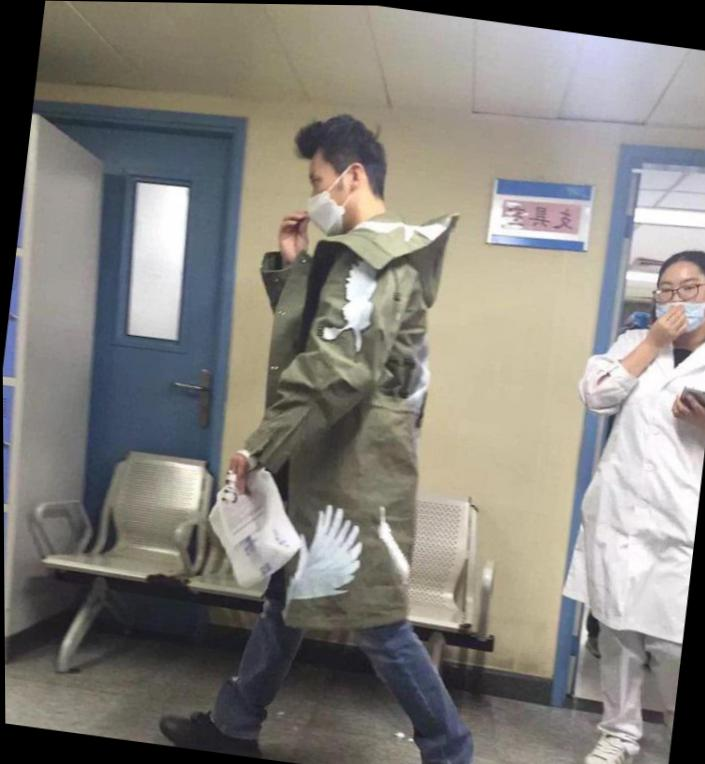OK: (301, 157, 373, 235)
WRONG: (649, 269, 705, 338)
